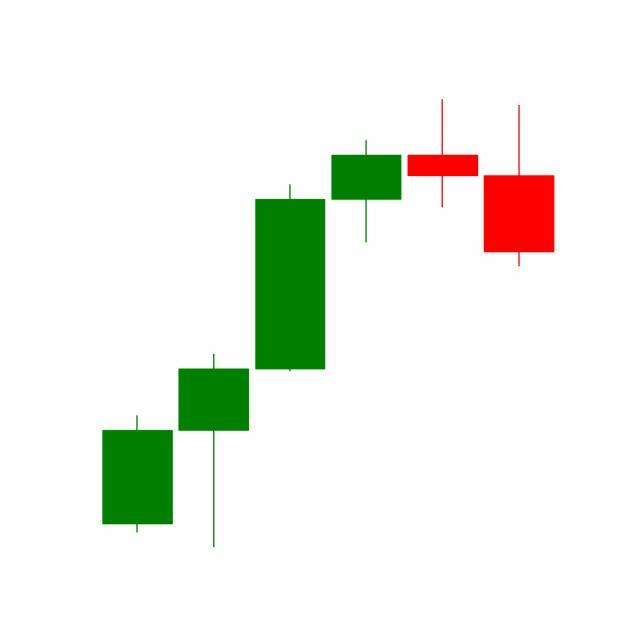Spinning Top: (404, 98, 482, 210)
